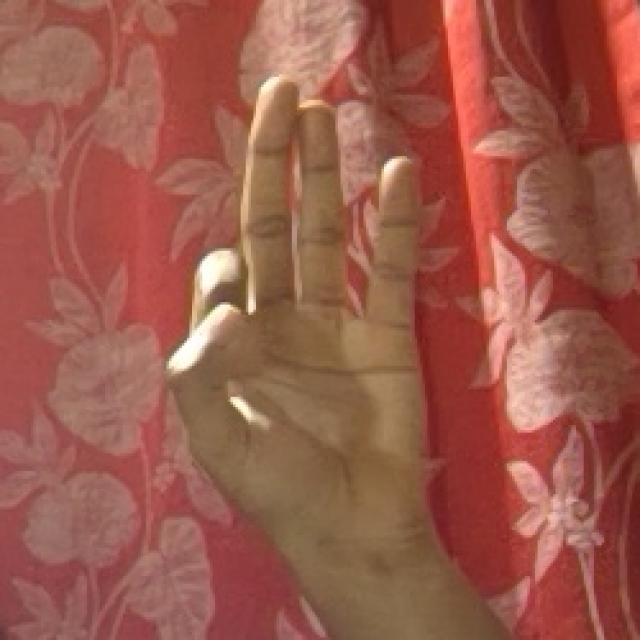Numeric-9: (165, 66, 435, 535)
